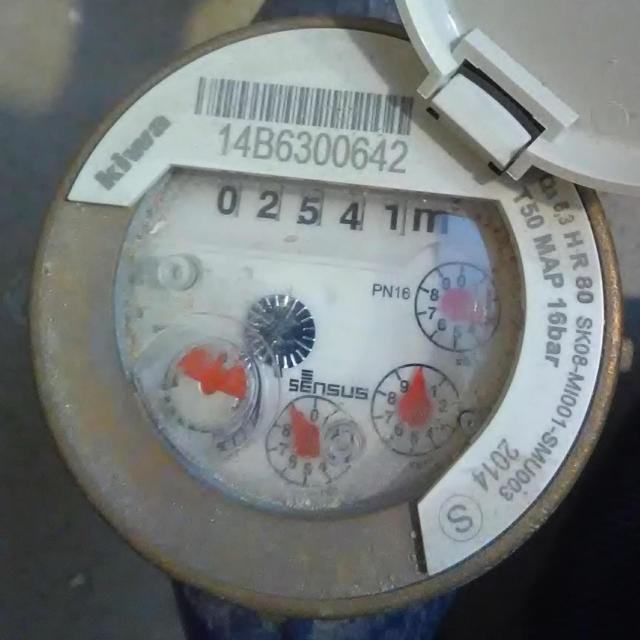gaz_meter: (29, 26, 621, 612)
indication: (193, 169, 417, 246)
